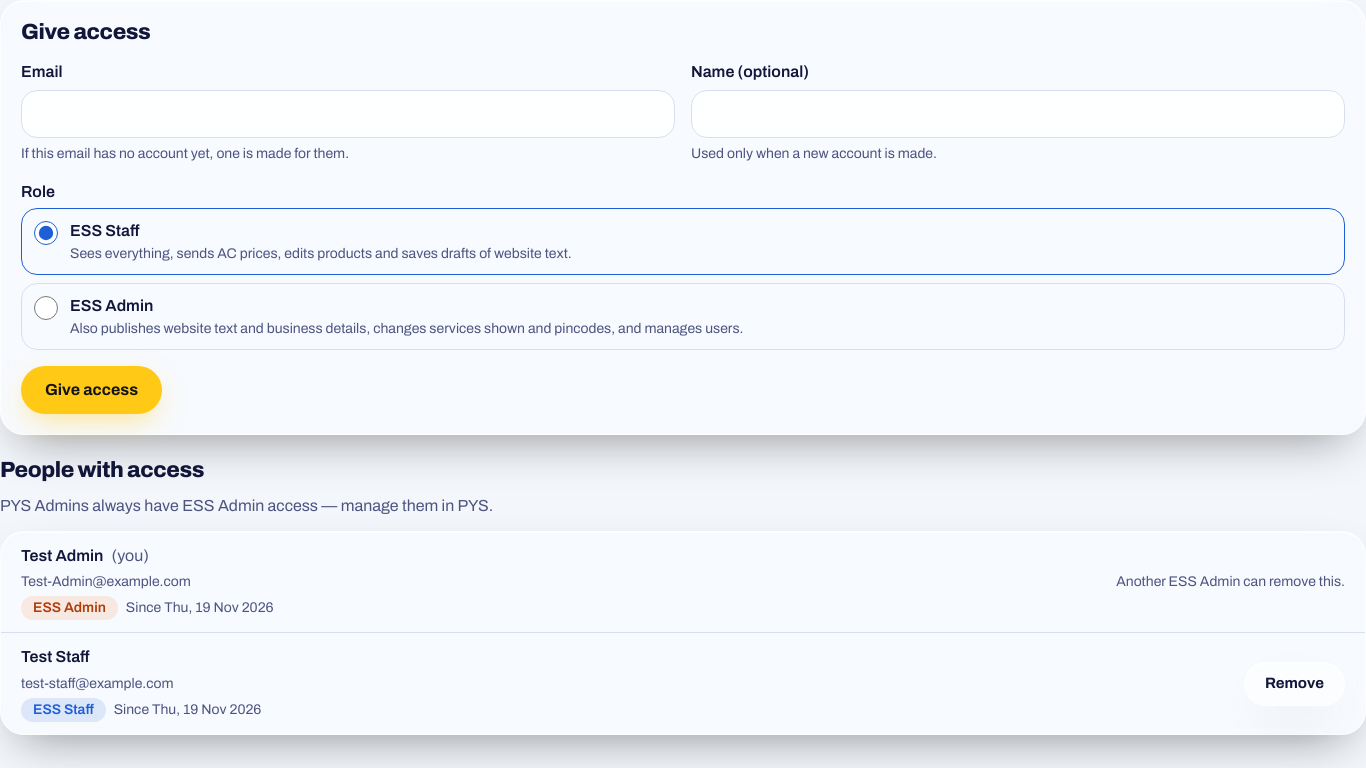
Test case: UsersEditor › Remove asks first; "Keep it" sends nothing, "Yes, remove" removes the access
Click the button with aria-label "Remove ESS Staff access for Test Staff" at (1294, 684), box [1244, 662, 1345, 706]
(page scrolled)
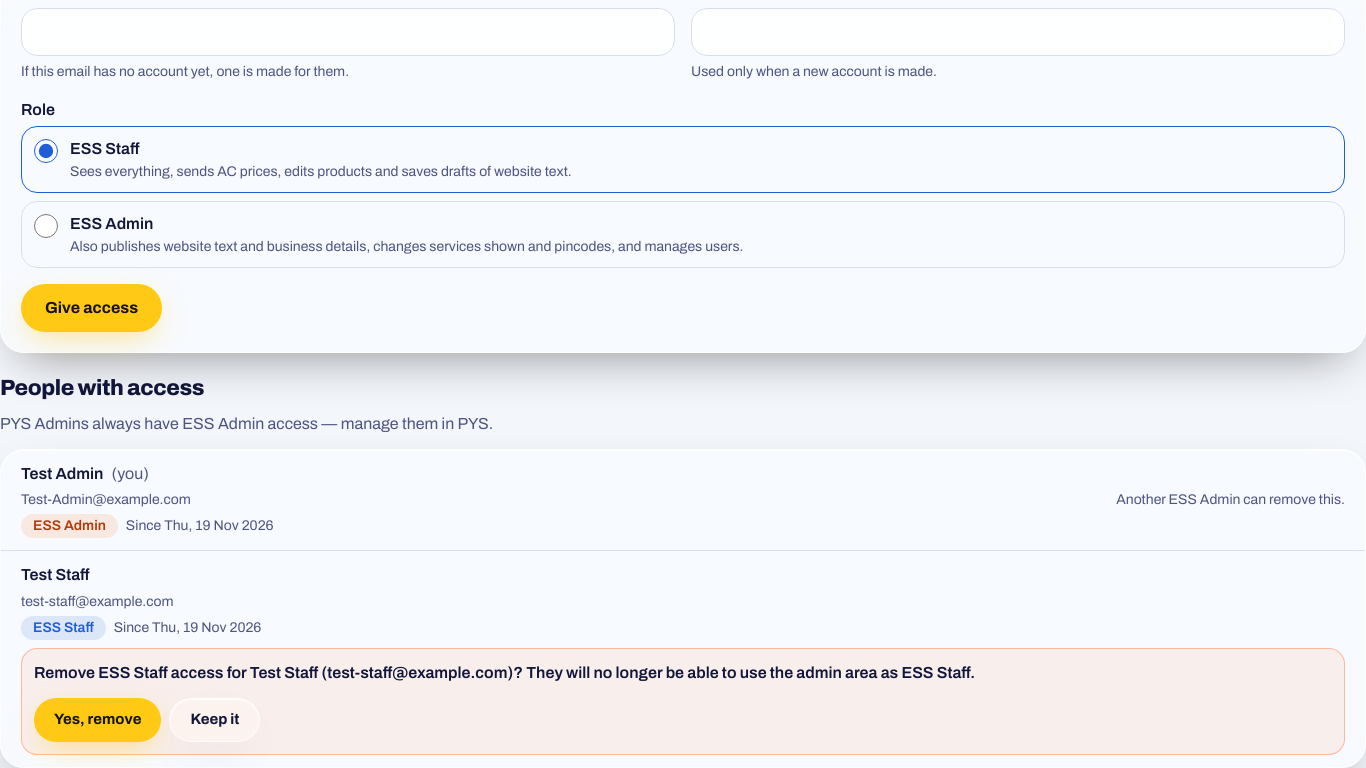
Click the button "Keep it" at (215, 720), box [169, 698, 260, 742]
(page scrolled)
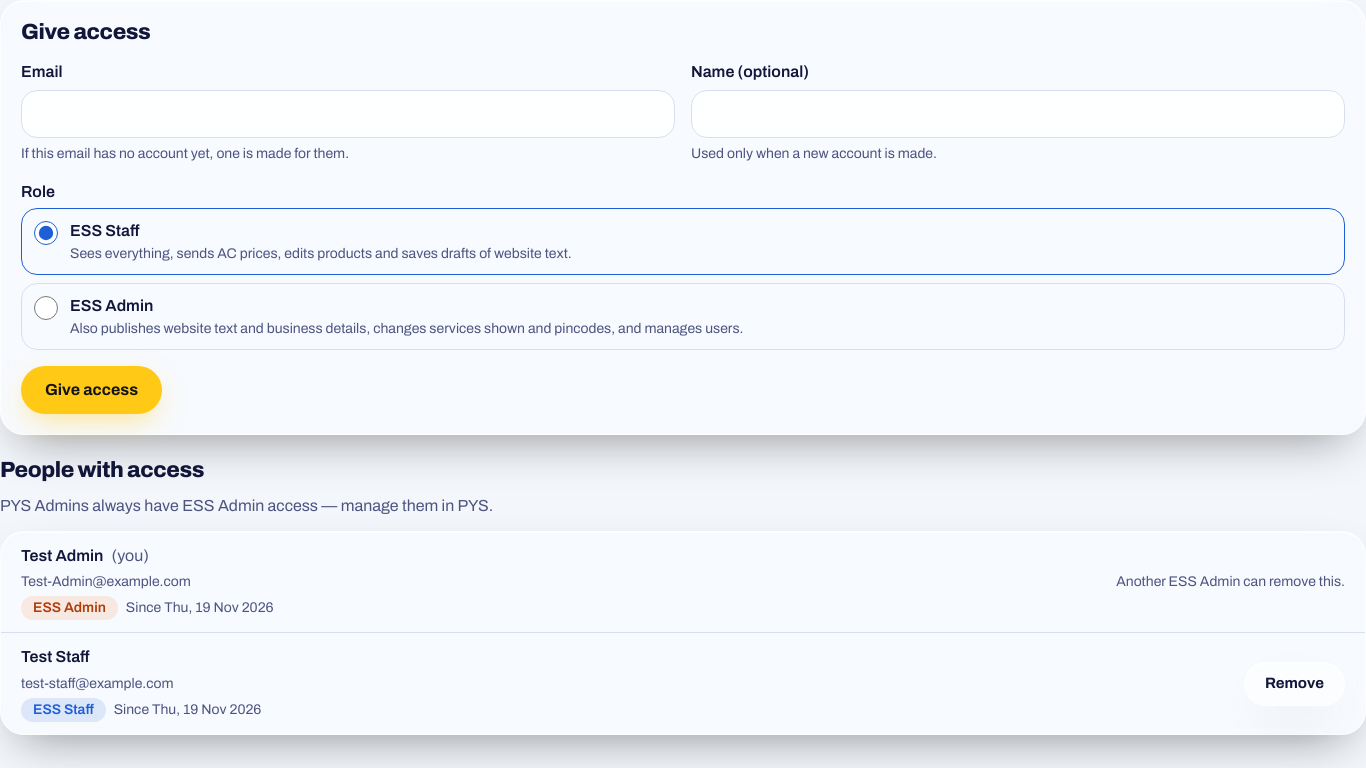
Click the button with aria-label "Remove ESS Staff access for Test Staff" at (1294, 684), box [1244, 662, 1345, 706]
(page scrolled)
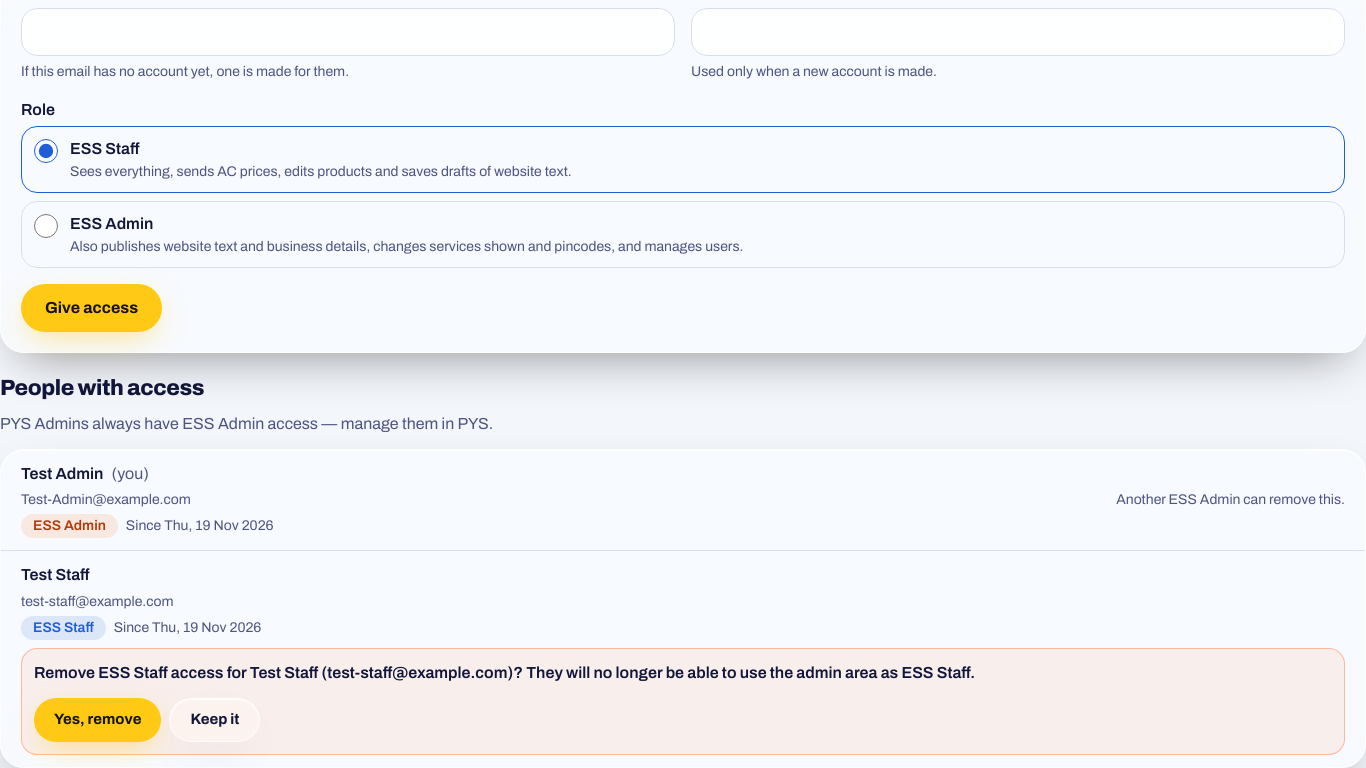
expect the text "Remove ESS Staff access for Test Staff (test-staff@example.com)?" is shown: met, box [34, 664, 975, 681]
Click the button "Yes, remove" at (98, 720), box [34, 698, 161, 742]
(page scrolled)
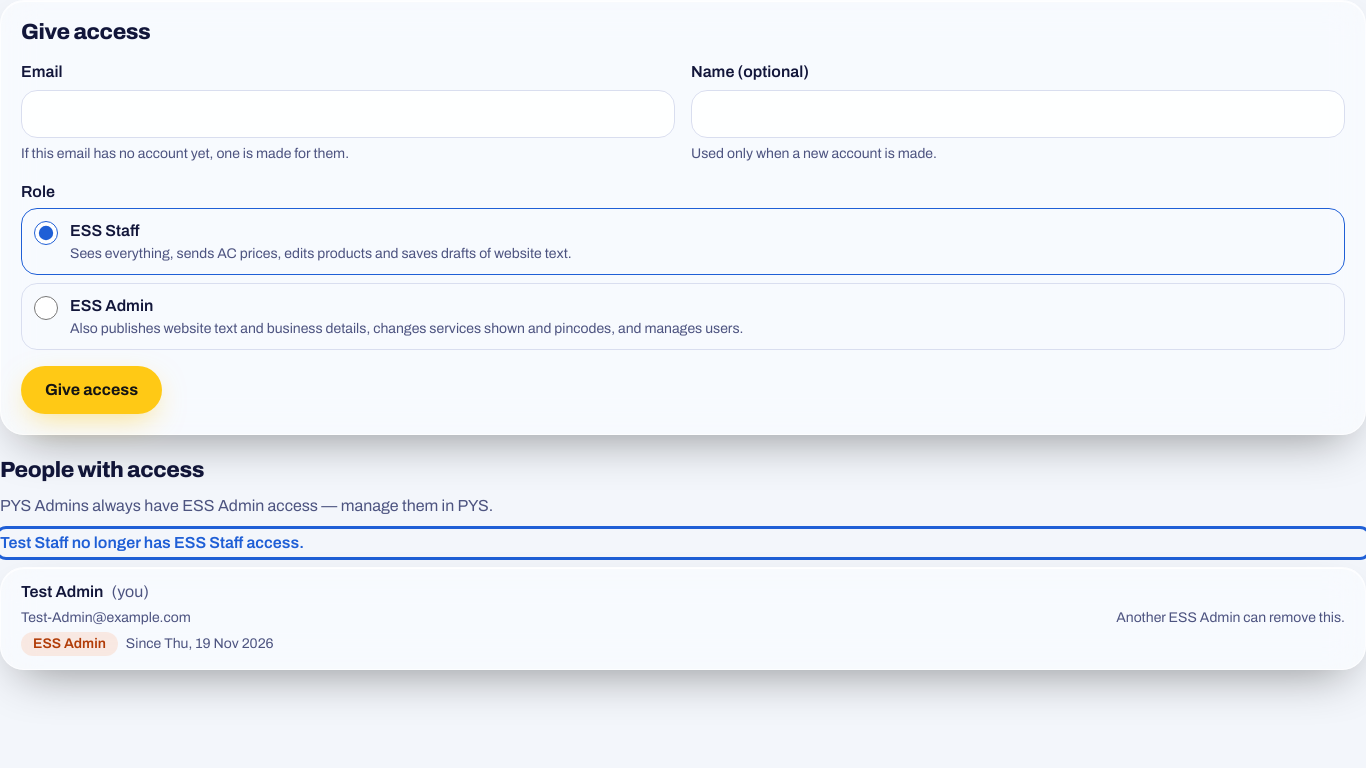
expect the text "Test Staff no longer has ESS Staff access." is shown: met, box [0, 534, 304, 551]
expect the text "test-staff@example.com" is gone: met
